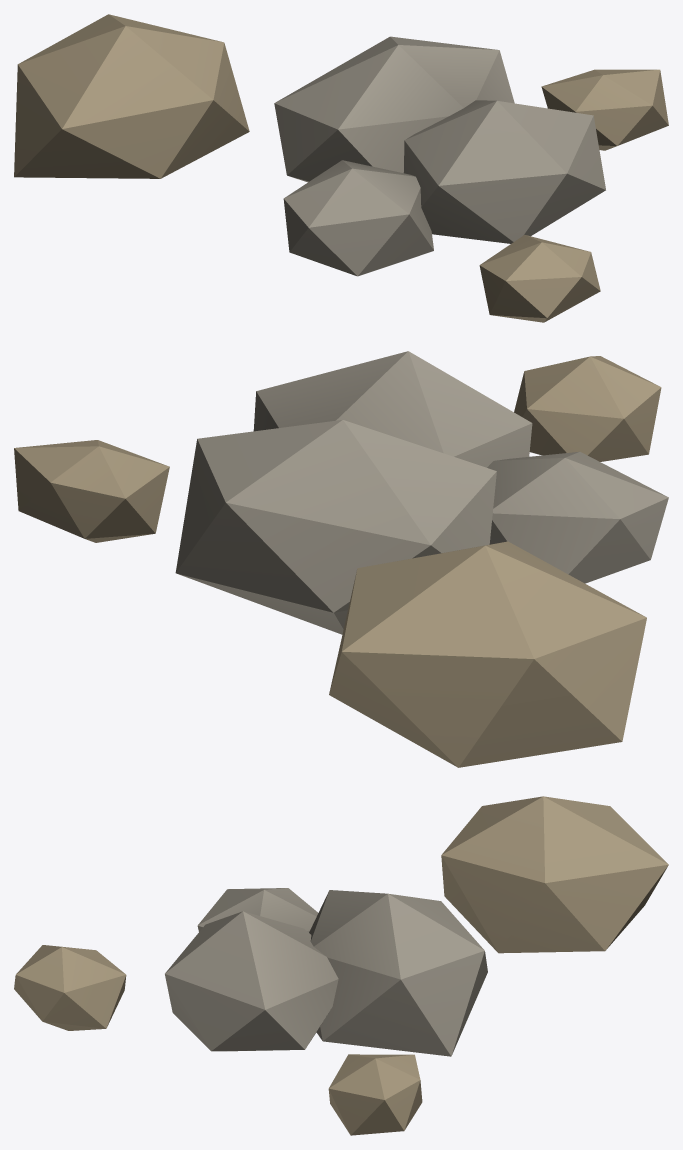
The model's file is pebbles.glb.
3 views of the same model, one above another, from view 1: azimuth 30°, elevation 25°; view 2: azimuth 150°, elevation 25°; view 3: azimuth 270°, elevation 25° (orthographic). The views are drawn at different scales.
Visible parts, largest first — view 1: pebbles; view 2: pebbles; view 3: pebbles.
Boxes of the visible parts, x1=… form: pebbles: x1=14, y1=14, x2=668, y2=322; pebbles: x1=14, y1=351, x2=668, y2=767; pebbles: x1=14, y1=796, x2=668, y2=1135.
Bounding box in the file's own units: 0.4747 × 0.1376 × 0.496.
